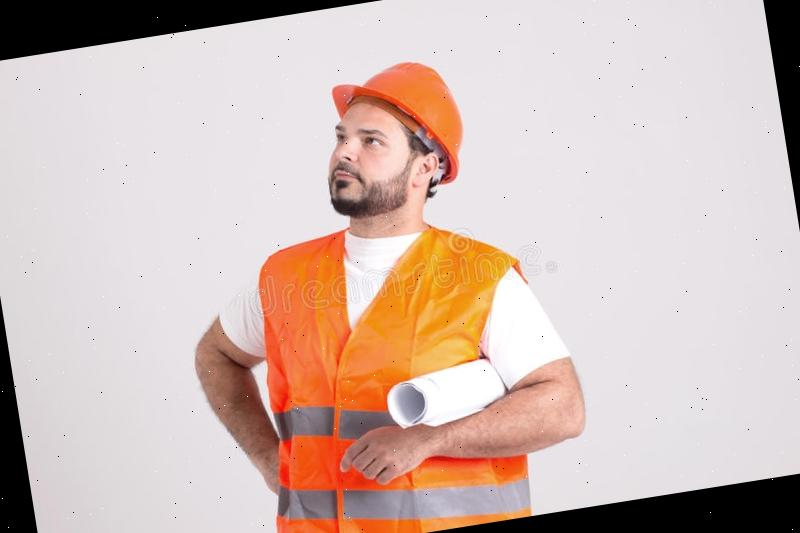helmet: (322, 52, 472, 200)
wear: (233, 221, 552, 533)
